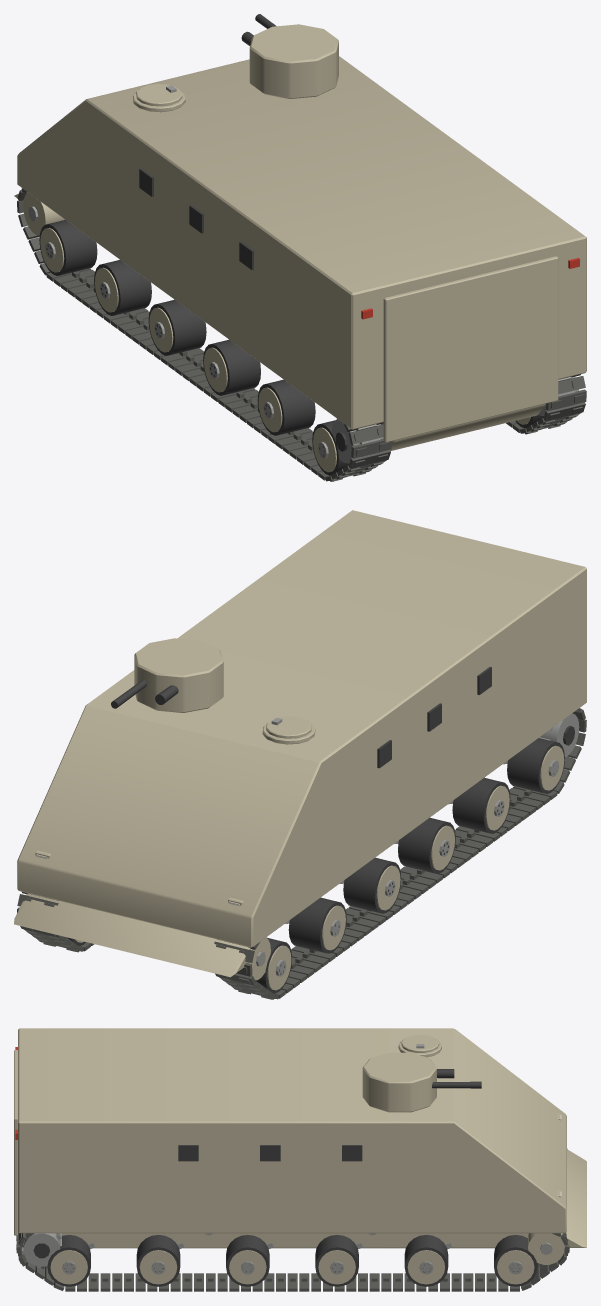
The model's file is usa_apc_aav.glb.
3 renders of one model, top to bottom at view 1: azimuth 30°, elevation 25°; view 2: azimuth 150°, elevation 25°; view 3: azimuth 270°, elevation 25°, orthographic. The views are drawn at different scales.
Visible parts, largest first — view 1: body, turret; view 2: body, turret, barrel; view 3: body, turret, barrel.
Part boxes in pixels (x1=…): body: x1=14, y1=56, x2=586, y2=481; turret: x1=249, y1=24, x2=338, y2=98; body: x1=14, y1=510, x2=586, y2=999; turret: x1=134, y1=638, x2=223, y2=712; barrel: x1=111, y1=679, x2=178, y2=708; body: x1=14, y1=1028, x2=586, y2=1291; turret: x1=362, y1=1052, x2=436, y2=1112; barrel: x1=432, y1=1069, x2=481, y2=1088.
Bounding box in the file's own units: 3.33 × 3.27 × 8.41.
